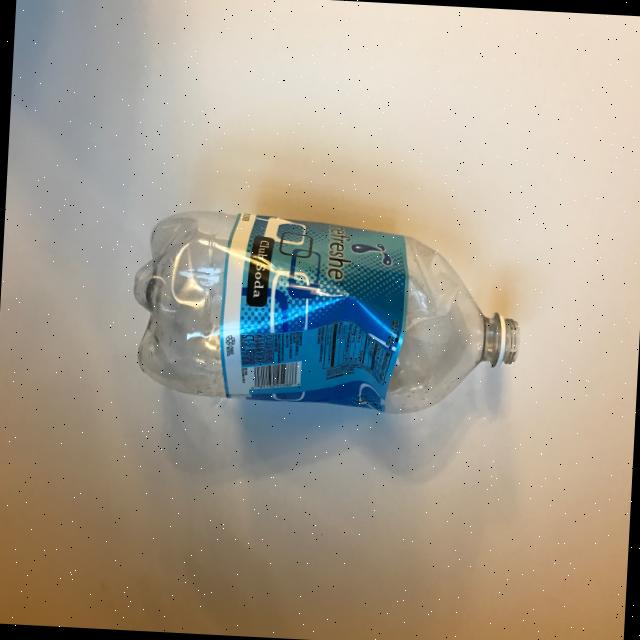plastic: (127, 205, 526, 421)
